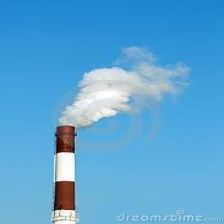smoke: (71, 53, 158, 124)
